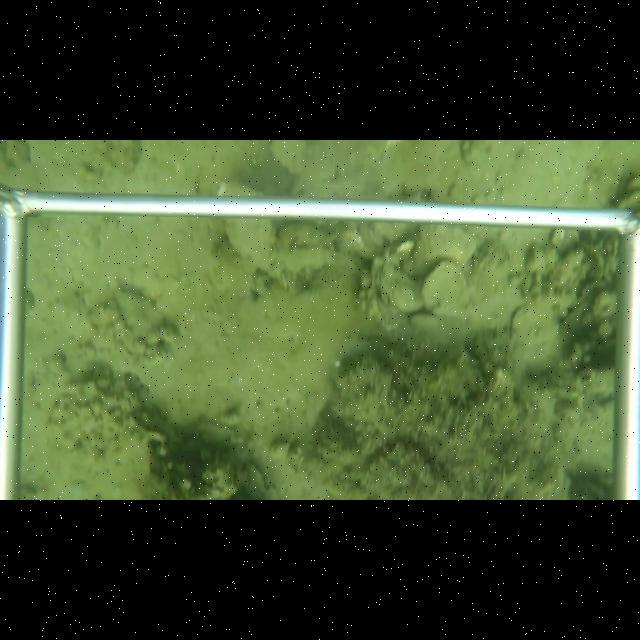Oyster-Closed: (502, 296, 562, 390), (404, 223, 483, 275), (113, 287, 167, 347), (419, 257, 470, 320), (223, 218, 275, 276)
